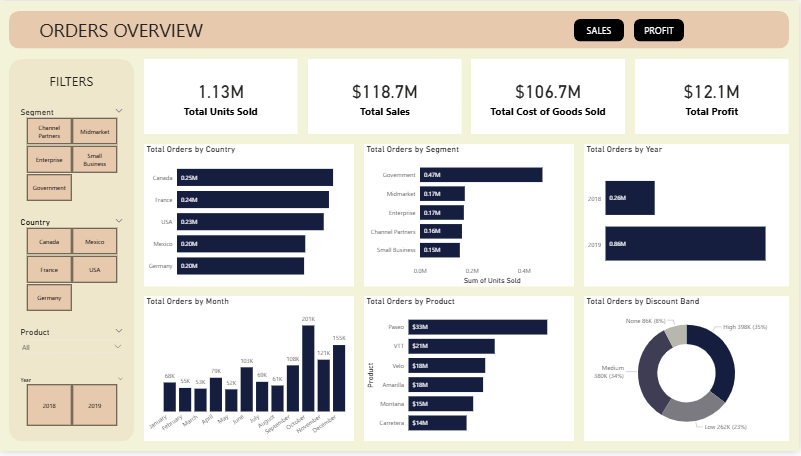

The page's visual inventory and layout, read from the dashboard file:
{"tool":"powerbi","page":{"name":"Orders","canvas":[1600,900],"ordinal":2},"visuals":[{"type":"shape","box":[20,20,1560,75],"z":0,"group":"g1"},{"type":"shape","box":[20,115,250,765],"z":0},{"type":"card","fields":{"Values":["Sum(Table1_1.Profit)"]},"box":[1271,115,307,150],"z":1000},{"type":"card","fields":{"Values":["Sum(Table1_1.COGS)"]},"box":[944,115,308,150],"z":2000},{"type":"card","fields":{"Values":["Sum(Table1_1. Sales)"]},"box":[617,115,307,150],"z":3000},{"type":"card","fields":{"Values":["Sum(Table1_1.Units Sold)"]},"box":[290,116,308,150],"z":4000},{"type":"barChart","title":"Total Orders by Country","fields":{"Category":["Table1_1.Country"],"Y":["Sum(Table1_1.Units Sold)"]},"box":[290,285,420,285],"z":5000},{"type":"barChart","title":"Total Orders by Segment","fields":{"Category":["Table1_1.Segment"],"Y":["Sum(Table1_1.Units Sold)"]},"box":[730,285,420,285],"z":6000},{"type":"slicer","fields":{"Values":["Table1_1.Segment"]},"box":[30,205,230,200],"z":7000},{"type":"slicer","fields":{"Values":["Table1_1.Country"]},"box":[30,425,230,200],"z":8000},{"type":"slicer","fields":{"Values":["Table1_1.Product"]},"box":[30,645,230,80],"z":9000},{"type":"barChart","title":"Total Orders by Year","fields":{"Category":["Table1_1.Date.Variation.Date Hierarchy.Year"],"Y":["Sum(Table1_1.Units Sold)"]},"box":[1170,285,410,285],"z":10000},{"type":"columnChart","title":"Total Orders by Month","fields":{"Category":["Table1_1.Date.Variation.Date Hierarchy.Year","Table1_1.Date.Variation.Date Hierarchy.Month"],"Y":["Sum(Table1_1.Units Sold)"]},"box":[290,590,420,290],"z":11000},{"type":"barChart","title":"Total Orders by Product","fields":{"Category":["Table1_1.Product"],"Y":["Sum(Table1_1. Sales)"]},"box":[730,590,420,290],"z":12000},{"type":"donutChart","title":"Total Orders by Discount Band","fields":{"Series":["Table1_1.Discount Band"],"Y":["Sum(Table1_1.Units Sold)"]},"box":[1170,590,410,290],"z":13000},{"type":"slicer","fields":{"Values":["Table1_1.Date.Variation.Date Hierarchy.Year"]},"box":[30,745,230,110],"z":14000},{"type":"group","id":"g1","title":"Group 1","box":[20,20,1560,75],"z":15000},{"type":"textbox","box":[75,25,350,65],"z":15002,"group":"g1"},{"type":"actionButton","box":[1150,35,100,45],"z":16000},{"type":"actionButton","box":[1270,35,100,45],"z":17000},{"type":"textbox","box":[20,135,250,50],"z":18000}]}

Visuals, with their boxes in screenshot pixels (x1, y1, x2, y2), scaled from the page's 1600x900 canvas onto the 801x456 screenshot:
shape: BBox(10, 10, 791, 48)
shape: BBox(10, 58, 135, 446)
card - Sum(Table1_1.Profit): BBox(636, 58, 790, 134)
card - Sum(Table1_1.COGS): BBox(473, 58, 627, 134)
card - Sum(Table1_1. Sales): BBox(309, 58, 463, 134)
card - Sum(Table1_1.Units Sold): BBox(145, 59, 299, 135)
"Total Orders by Country" barChart: BBox(145, 144, 355, 289)
"Total Orders by Segment" barChart: BBox(365, 144, 576, 289)
slicer - Table1_1.Segment: BBox(15, 104, 130, 205)
slicer - Table1_1.Country: BBox(15, 215, 130, 317)
slicer - Table1_1.Product: BBox(15, 327, 130, 367)
"Total Orders by Year" barChart: BBox(586, 144, 791, 289)
"Total Orders by Month" columnChart: BBox(145, 299, 355, 446)
"Total Orders by Product" barChart: BBox(365, 299, 576, 446)
"Total Orders by Discount Band" donutChart: BBox(586, 299, 791, 446)
slicer - Table1_1.Date.Variation.Date Hierarchy.Year: BBox(15, 377, 130, 433)
"Group 1" group: BBox(10, 10, 791, 48)
textbox: BBox(38, 13, 213, 46)
actionButton: BBox(576, 18, 626, 41)
actionButton: BBox(636, 18, 686, 41)
textbox: BBox(10, 68, 135, 94)
